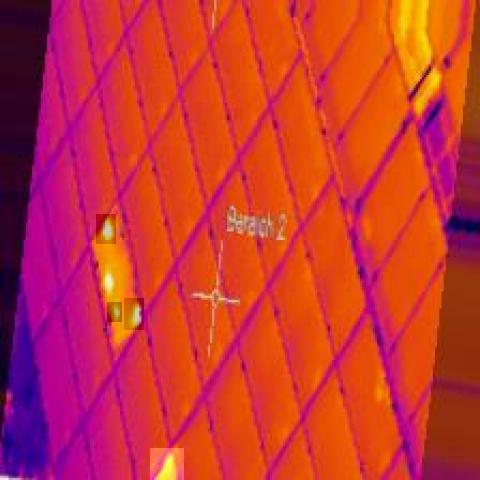fault: (150, 448, 184, 480), (124, 298, 144, 330), (96, 214, 116, 244), (98, 268, 118, 298), (107, 302, 122, 322)
